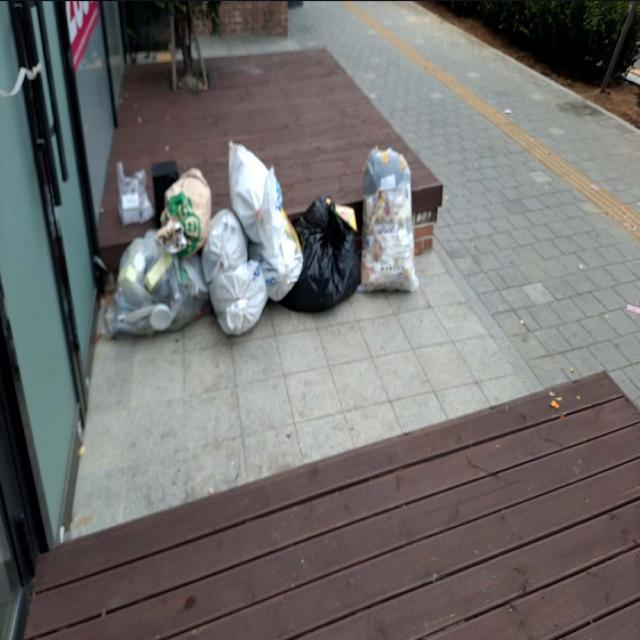high trash: (109, 142, 418, 335)
less trash: (116, 161, 154, 224)
